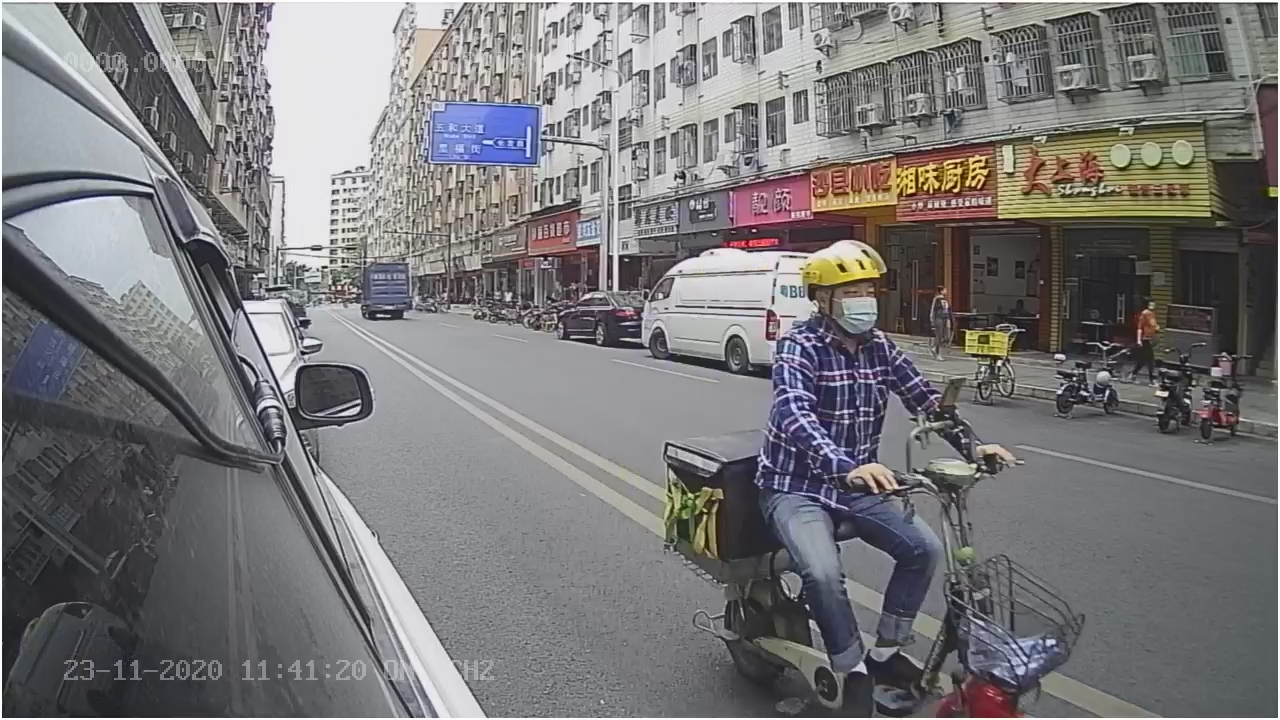person: (759, 238, 891, 475)
